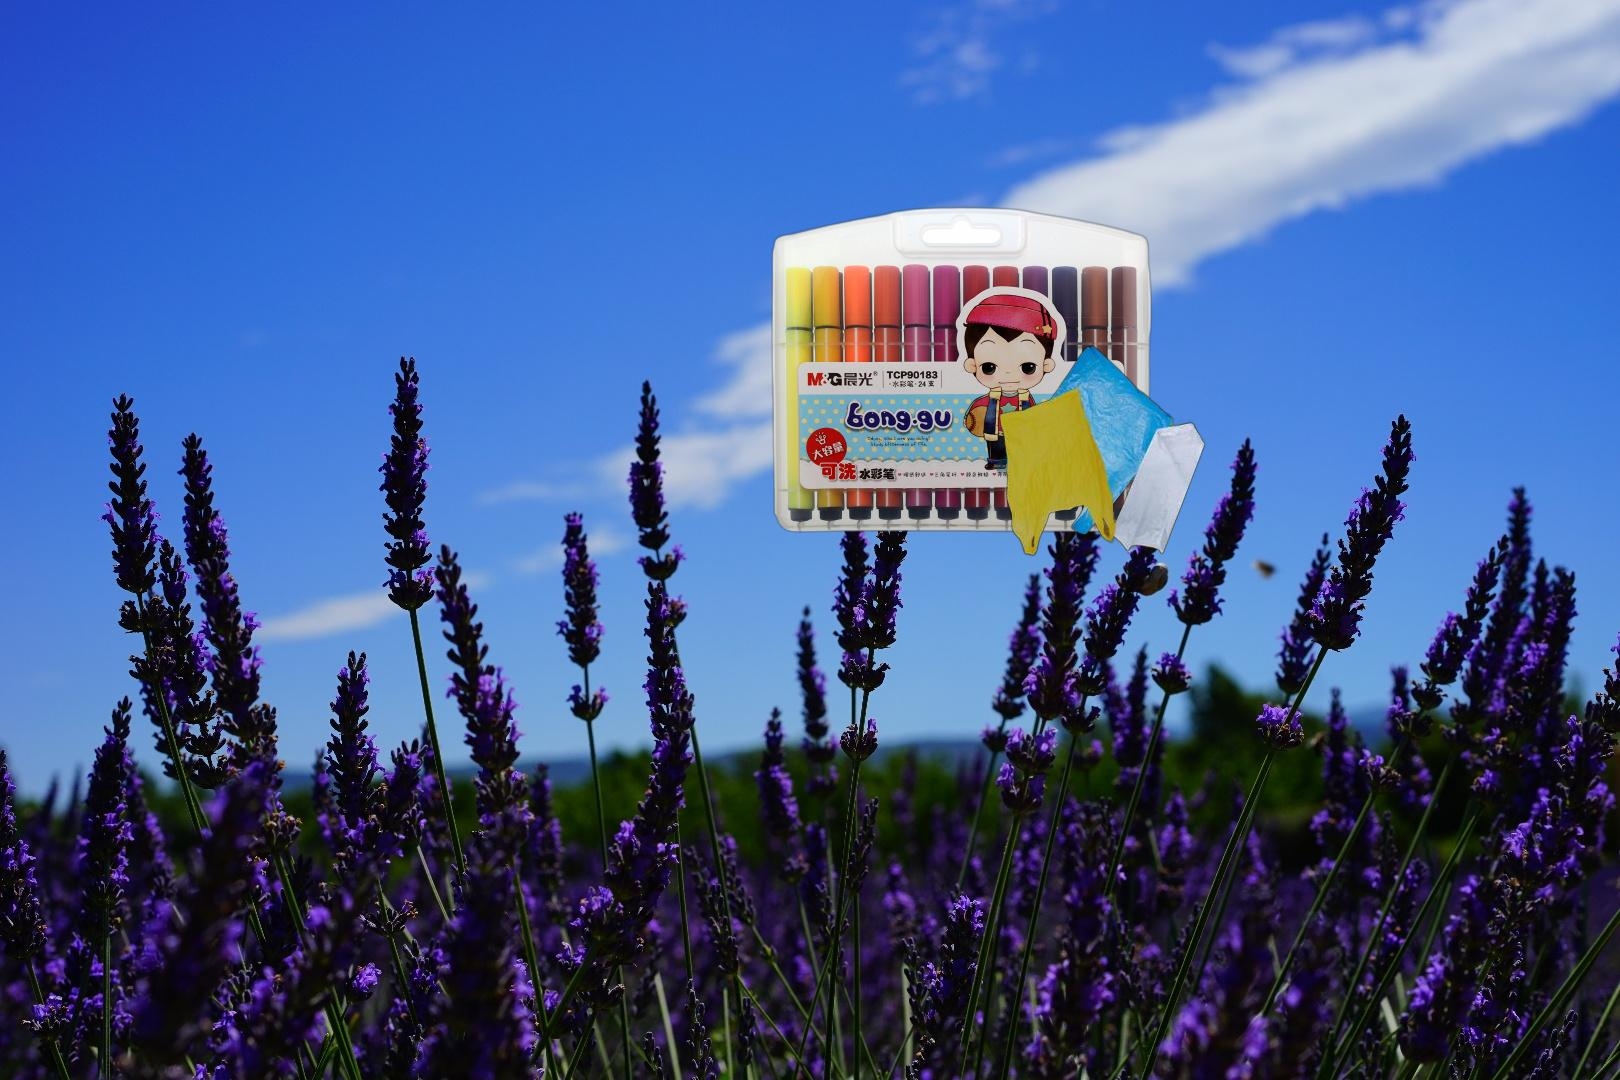glass: (679, 918, 1191, 1080)
penholder: (768, 204, 1155, 536)
plastic-bag: (993, 344, 1208, 559)
